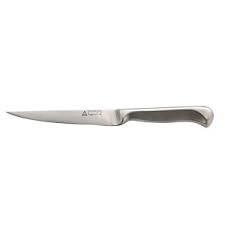Knife: (5, 105, 214, 127)
